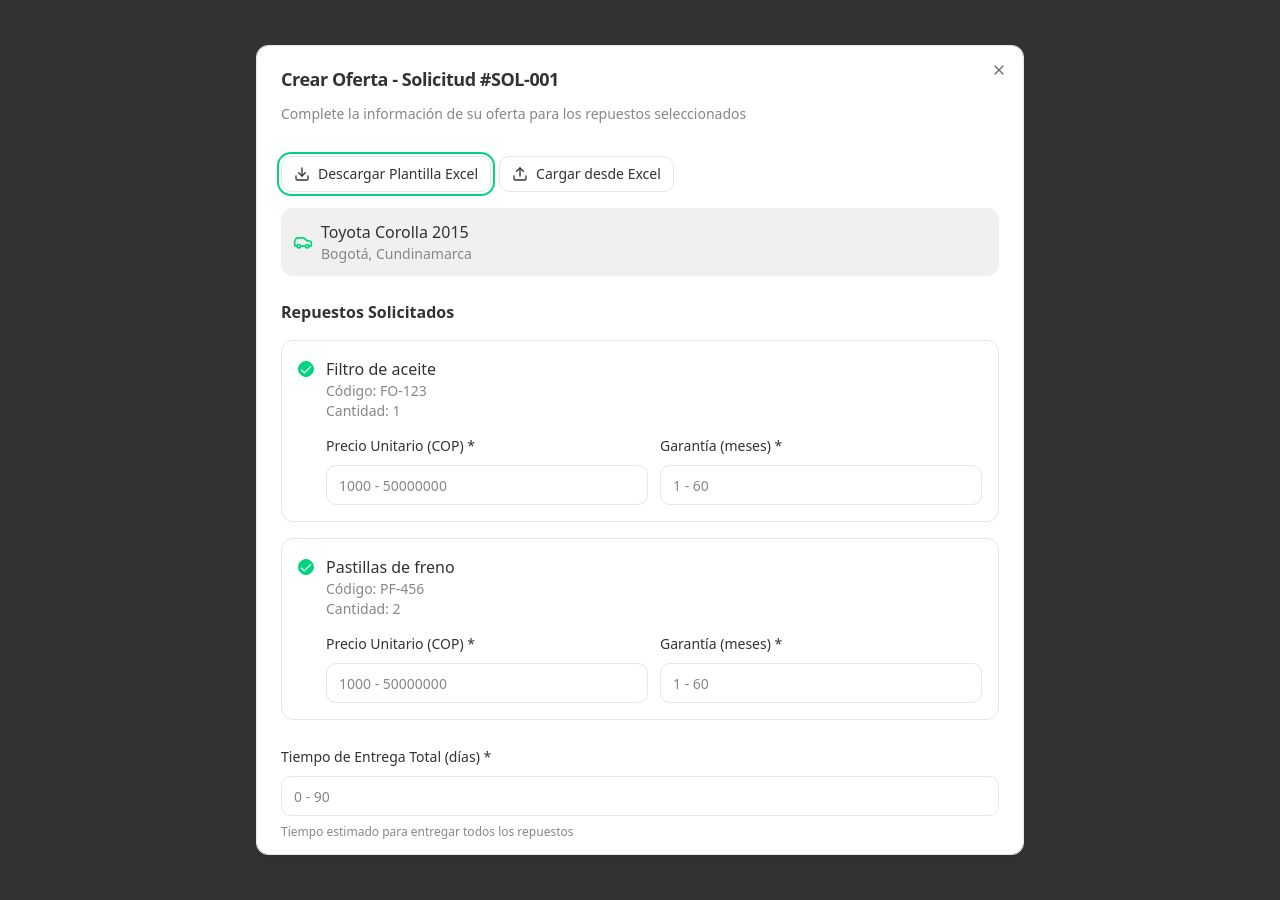
Scenario: OfertaIndividualModal › validates tiempo entrega range (0-90 days)
In the number field with placeholder "0 - 90": (640, 796) [281,776,999,816], type "100"
(page scrolled)
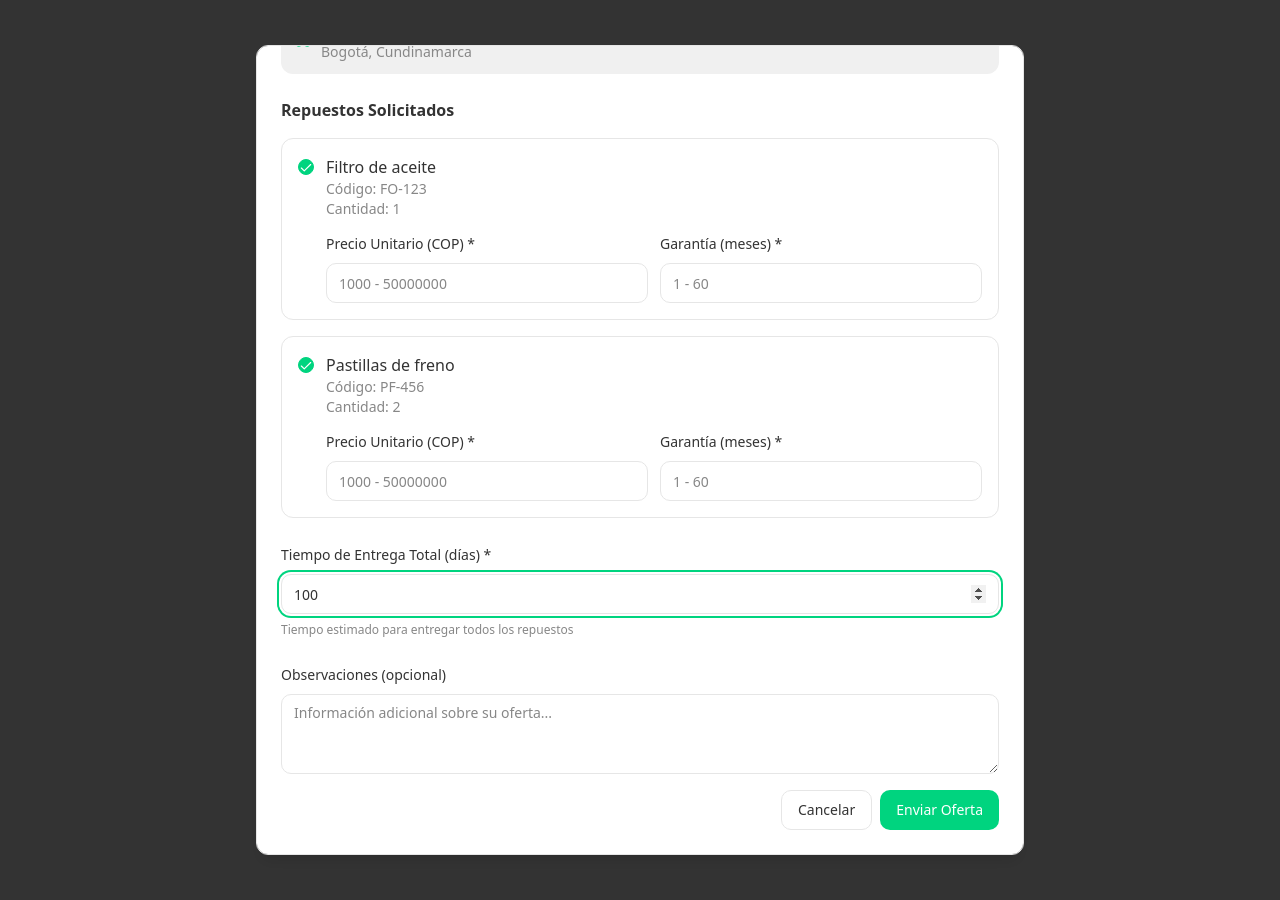
Click the button "Enviar Oferta": (940, 810) [880,790,999,830]
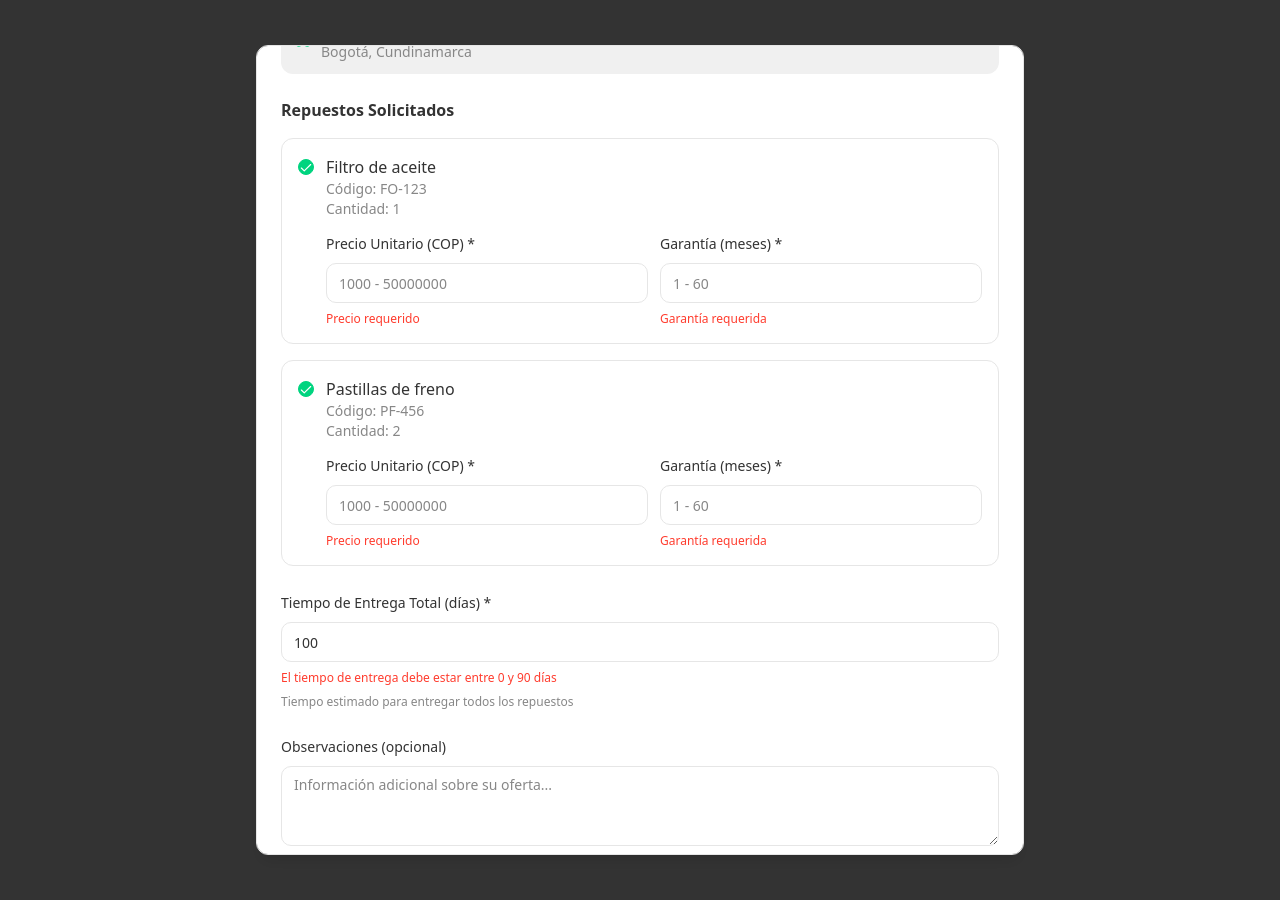
Expected: the text "El tiempo de entrega debe estar entre 0 y 90 días" is shown, [281,669,557,686]
